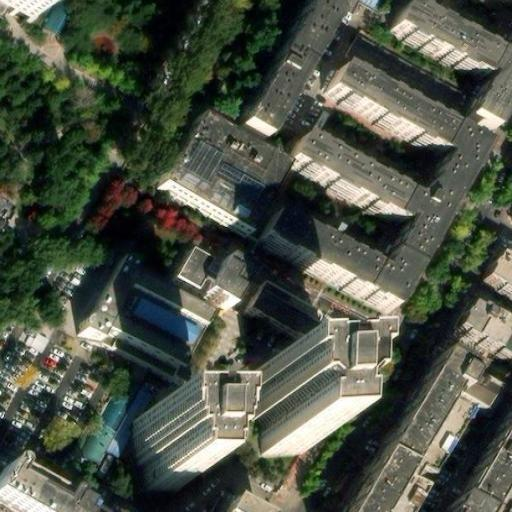building: (251, 214, 409, 317), (88, 253, 213, 363), (153, 128, 273, 240), (383, 359, 489, 482), (386, 129, 478, 268), (319, 71, 444, 157), (280, 138, 400, 224), (341, 31, 463, 112), (387, 7, 489, 83), (454, 17, 512, 137), (245, 373, 316, 454), (460, 413, 512, 512), (254, 279, 333, 340), (169, 250, 247, 306), (138, 417, 197, 489), (332, 328, 394, 389), (353, 460, 425, 512), (450, 298, 501, 346), (479, 243, 512, 289), (486, 318, 512, 360)
